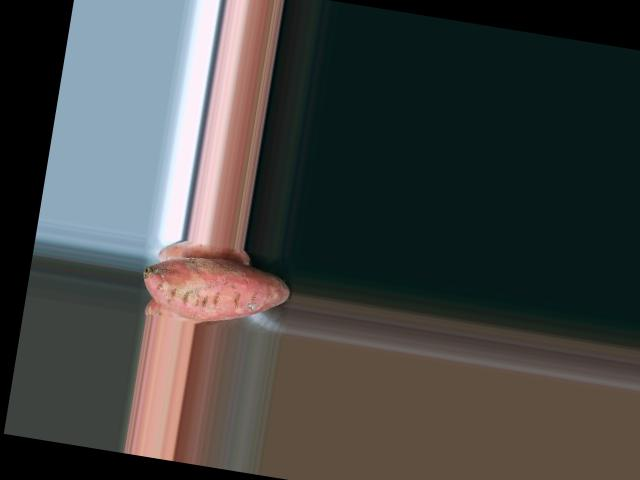sweet_potato: (138, 254, 291, 328)
